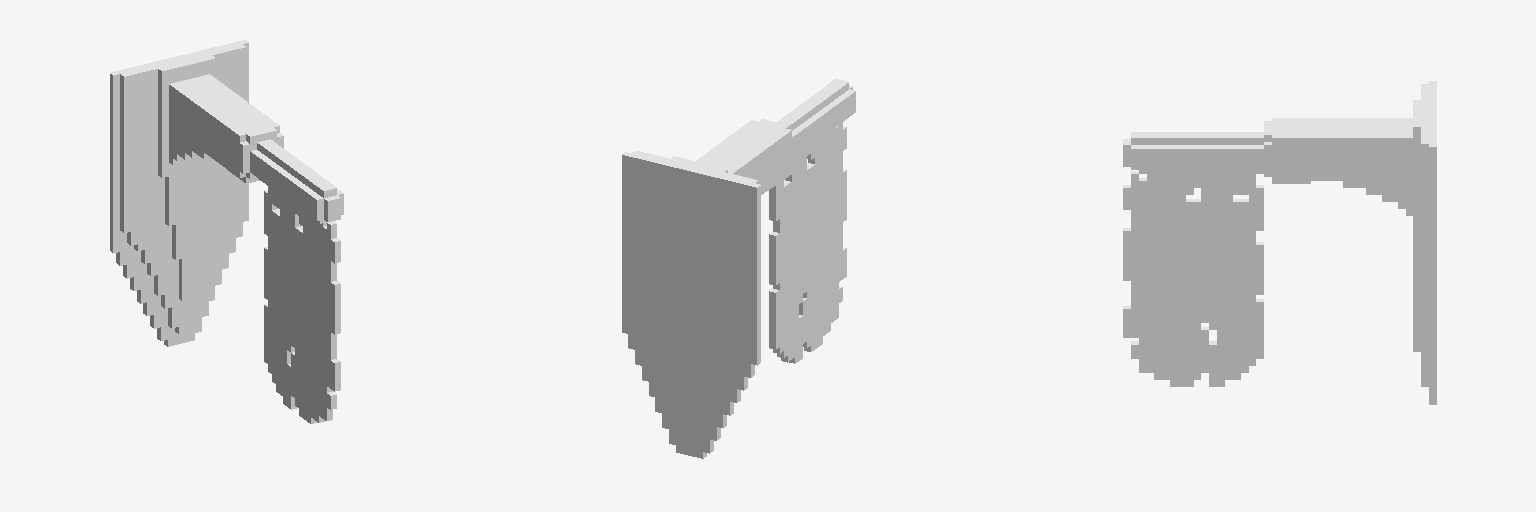
The model's file is Banniere.obj.
3 renders of one model, left to right at view 1: azimuth 30°, elevation 25°; view 2: azimuth 150°, elevation 25°; view 3: azimuth 270°, elevation 25°, orthographic.
Visible parts, largest first — view 1: Banniere; view 2: Banniere; view 3: Banniere.
Boxes of the visible parts, <box> form: Banniere: <box>110,40,343,423</box>; Banniere: <box>622,79,855,458</box>; Banniere: <box>1123,81,1436,404</box>.
Bounding box in the file's own units: 20 × 40 × 40.